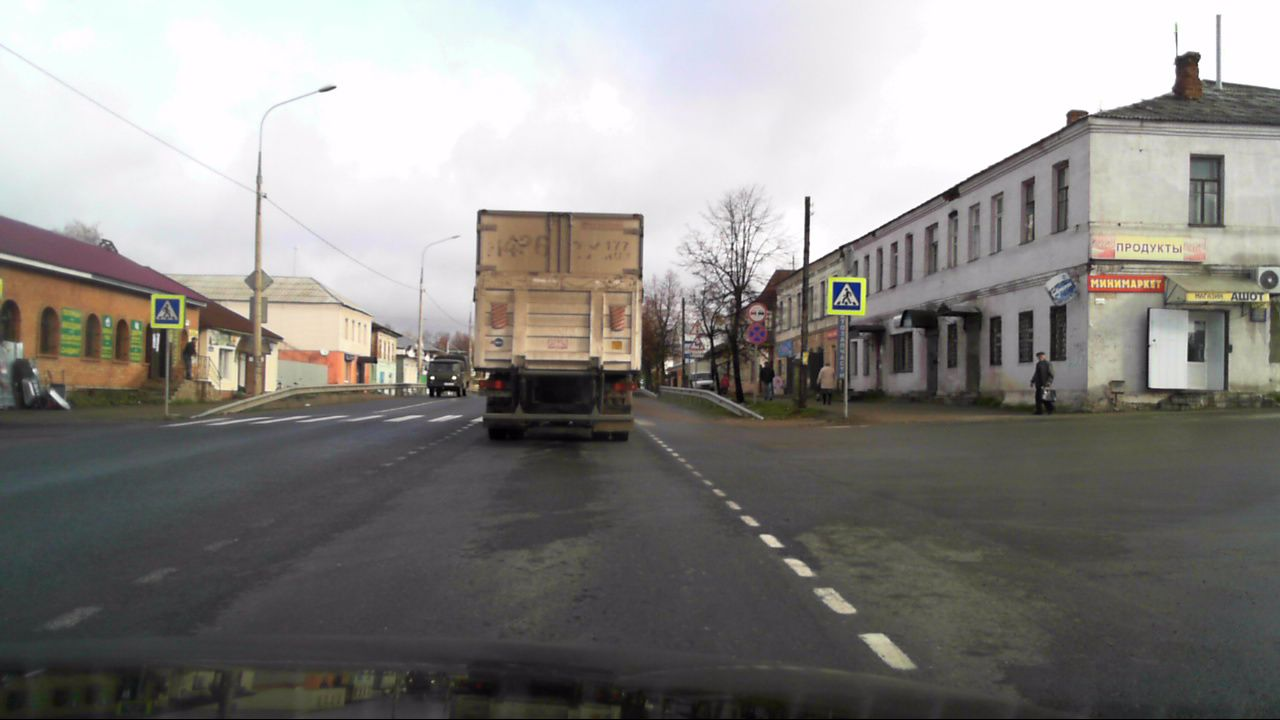No Parking: (746, 324, 766, 343)
